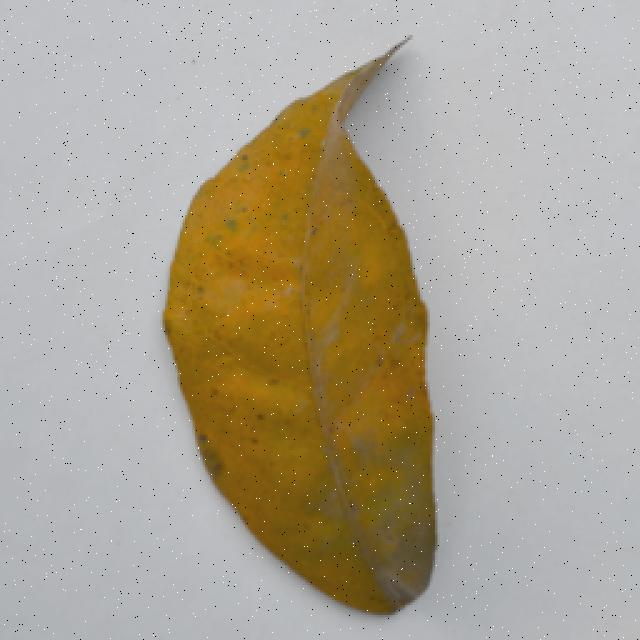blackspot: (119, 27, 525, 626)
